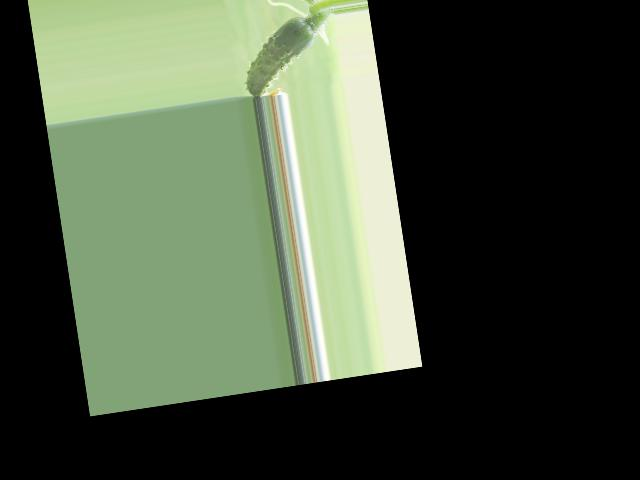cucumber: (236, 13, 321, 97)
